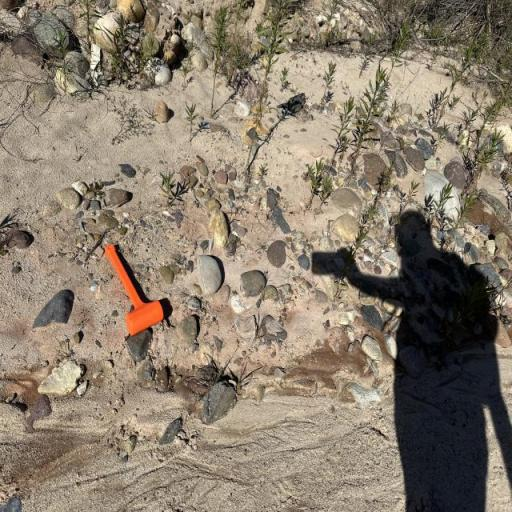mallet: (104, 242, 164, 336)
